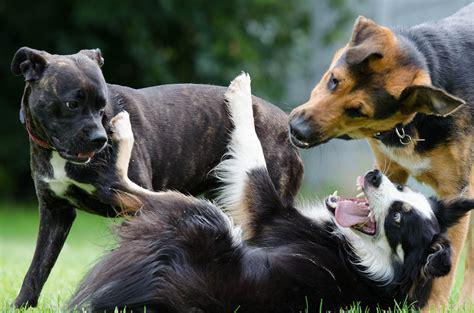dog: (67, 74, 474, 313), (10, 47, 302, 308), (288, 4, 474, 197)
